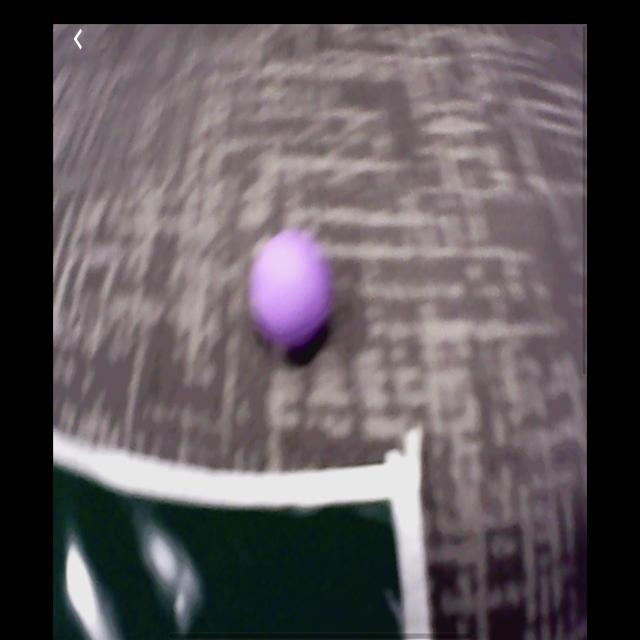ball: (254, 235, 329, 349)
